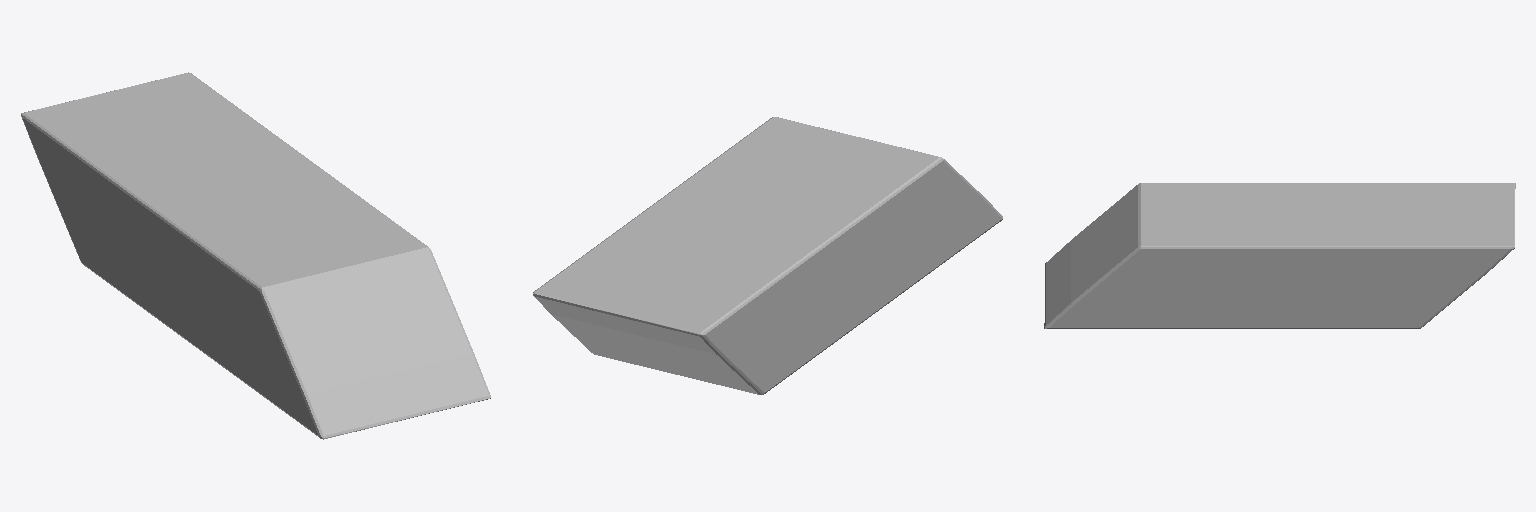
The robot description file, URDF, robot "root":
<?xml version="1.0"?>
<robot name="root">
  <link name="base_link">
    <visual>
      <origin xyz="0 0 0" rpy="0 0 0" />
      <geometry>
        <mesh filename="../meshes/unidex_sem_Eraser-1becba69a6c26be02c0f5b5b20a5a506_008.obj" scale="1.0000E+00 1.0000E+00 1.0000E+00" />
      </geometry>
      <material name="">
        <color rgba="7.50E-01 7.50E-01 7.50E-01 1" />
      </material>
    </visual>
    <collision>
      <origin xyz="0 0 0" rpy="0 0 0" />
      <geometry>
        <mesh filename="../meshes/unidex_sem_Eraser-1becba69a6c26be02c0f5b5b20a5a506_008.obj" scale="1.0000E+00 1.0000E+00 1.0000E+00" />
      </geometry>
    </collision>
  </link>
</robot>

--- Facts derived from the render (not from the file) ---
The picture shows the robot from 3 angles, left to right: view 1: azimuth 30°, elevation 25°; view 2: azimuth 150°, elevation 25°; view 3: azimuth 270°, elevation 25°; orthographic projection.
Robot: root — 1 links, 0 joints (none); root link base_link; default pose: every joint at zero.
Links seen in each view (by area): view 1: base_link; view 2: base_link; view 3: base_link.
Boxes of the visible links, left/top/right/bottom form: base_link: left=21, top=72, right=490, bottom=439; base_link: left=533, top=117, right=1002, bottom=394; base_link: left=1044, top=183, right=1515, bottom=328.
Size in the robot's own frame: 0.048 by 0.1467 by 0.0288 metres.
Meshes: 1 distinct files referenced, 1 mesh visuals loaded (1 OBJ).
